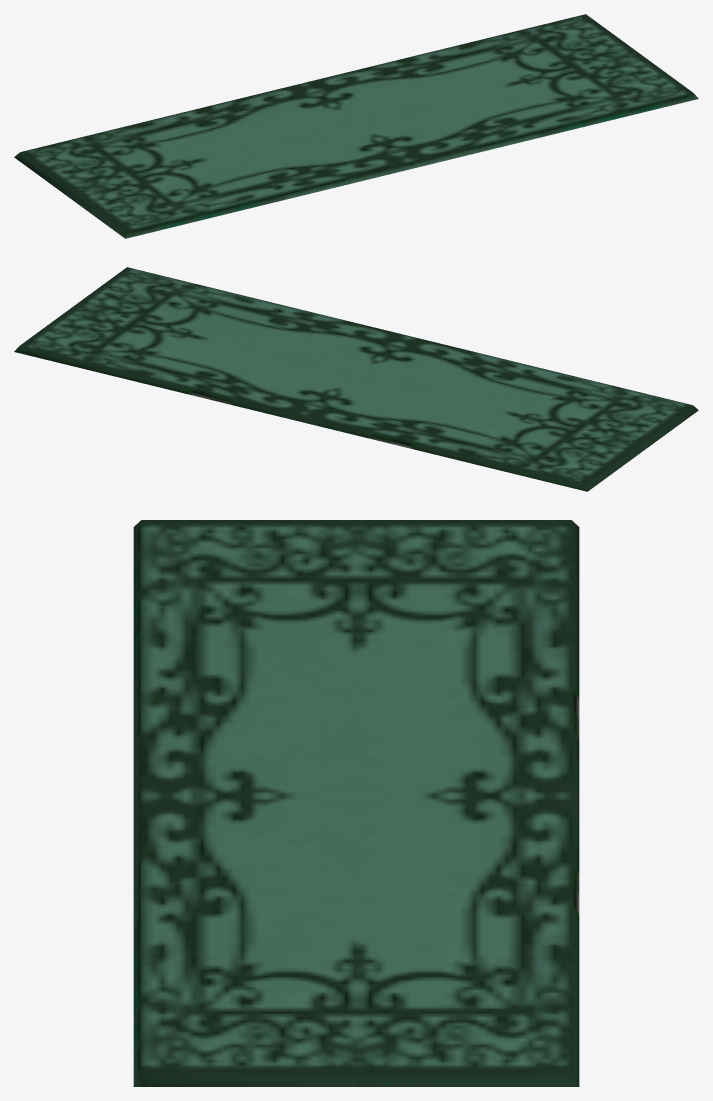
The picture shows the model from 3 angles, top to bottom: view 1: azimuth 30°, elevation 25°; view 2: azimuth 150°, elevation 25°; view 3: azimuth 270°, elevation 25°; orthographic projection. The views are drawn at different scales.
Visible parts, largest first — view 1: objects_un_t03mat01; view 2: objects_un_t03mat01; view 3: objects_un_t03mat01.
Boxes of the visible parts, x1=… form: objects_un_t03mat01: x1=14, y1=14, x2=698, y2=238; objects_un_t03mat01: x1=14, y1=267, x2=698, y2=491; objects_un_t03mat01: x1=133, y1=520, x2=579, y2=1086.
Size of what is drawn, in the model's own units: 2.63 by 0.024 by 0.8847.
1 material, 1 textured.
